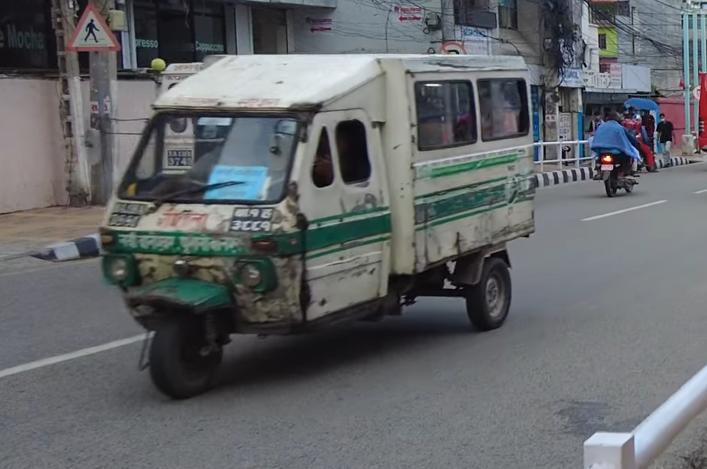bike: (592, 141, 640, 197)
tempo: (97, 49, 537, 399)
